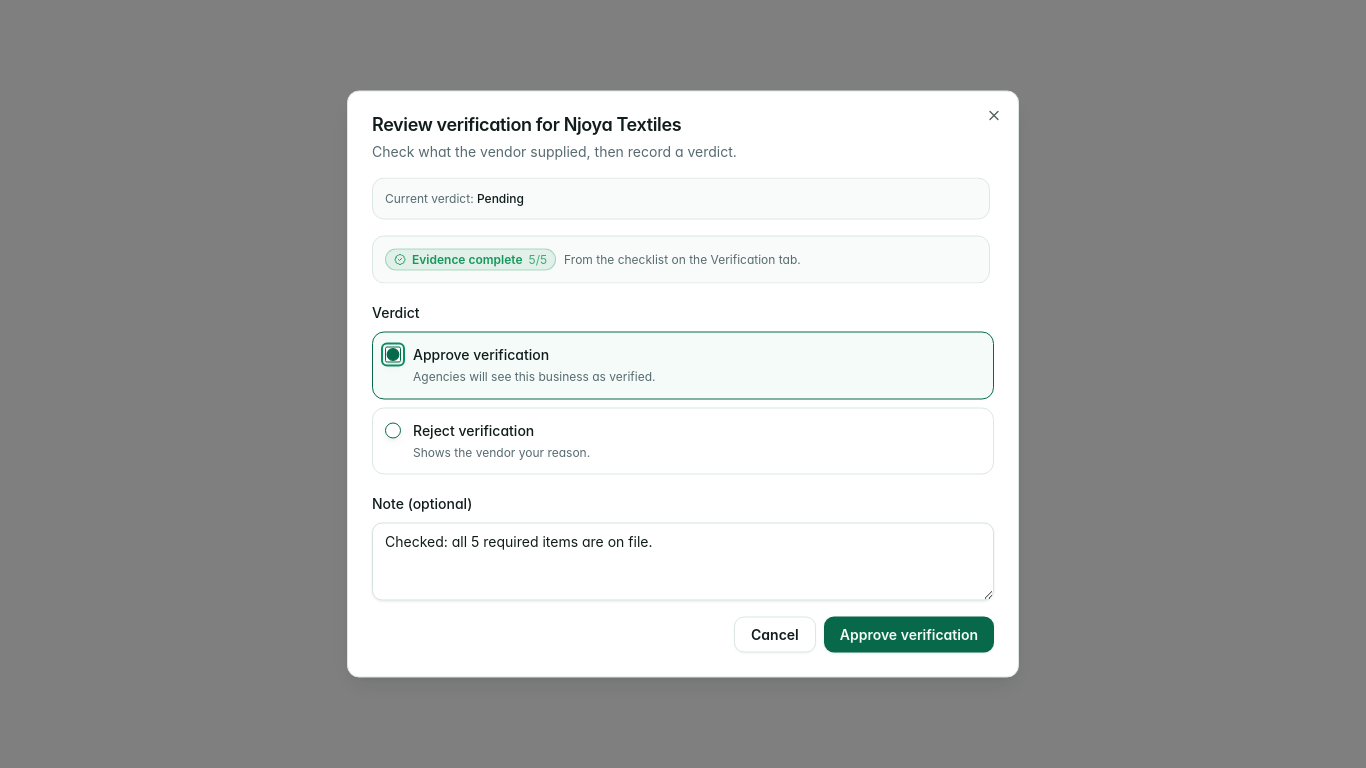
Scenario: the drafted reason › refuses to submit a rejection with no reason
The width and height of the screenshot is (1366, 768).
Click the radio button named "reject verification" next to "Reject verification": point(393, 430) [385, 422, 401, 438]
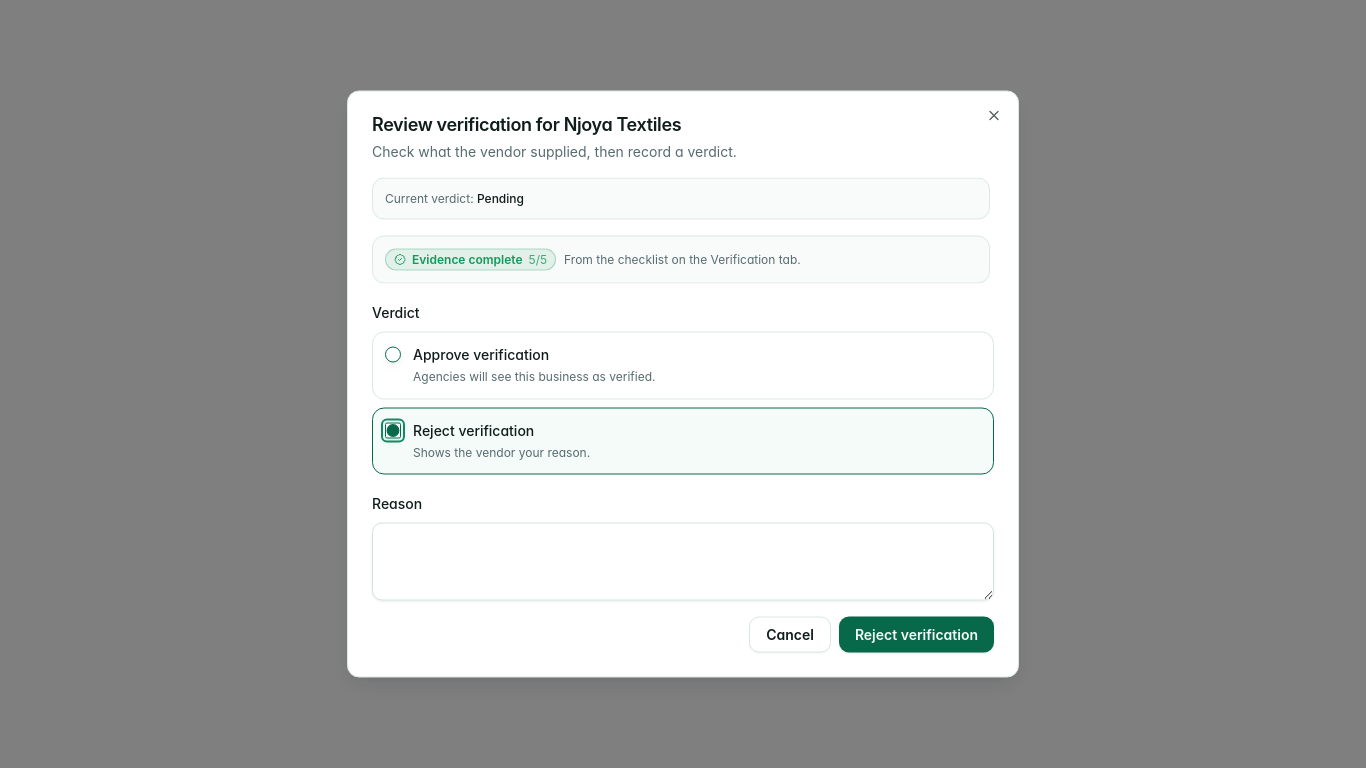
Clear the text box labelled "Reason": point(683, 562) [372, 522, 994, 600]
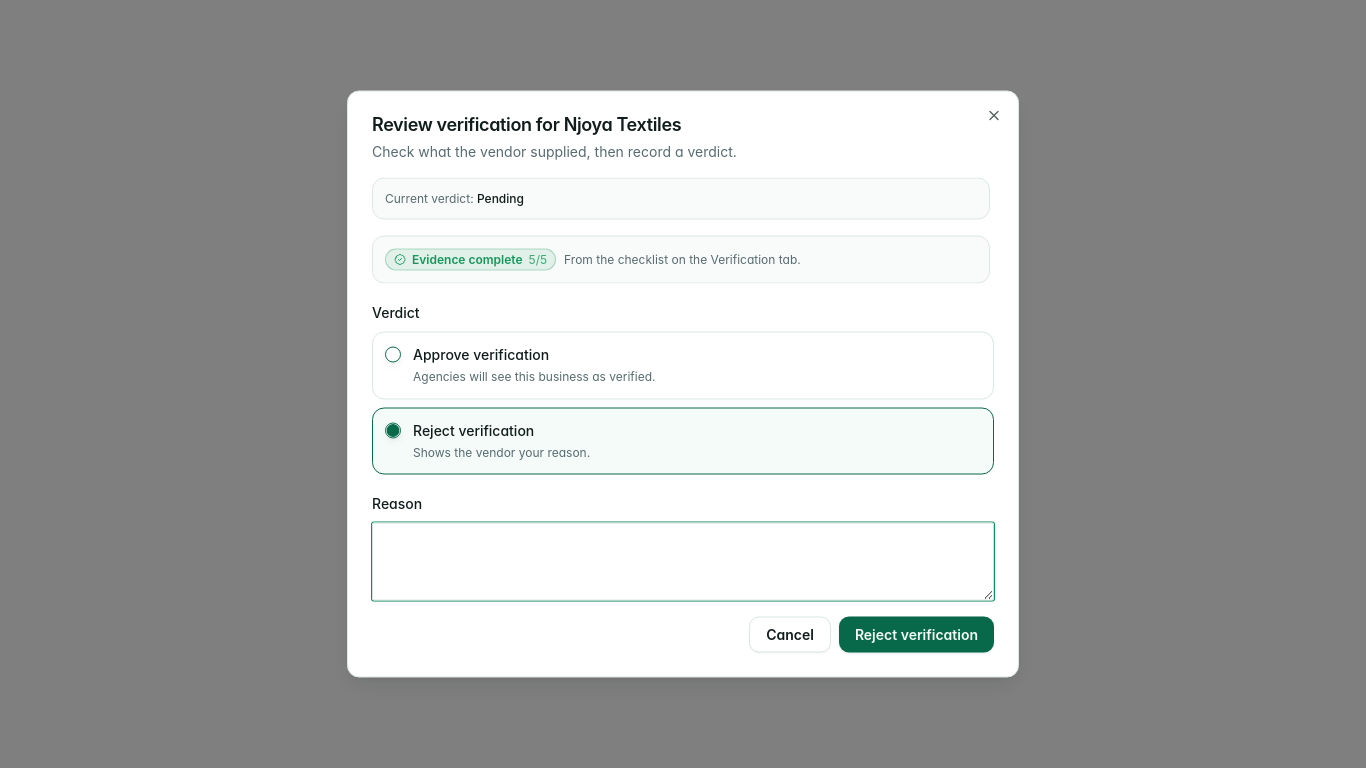
Click the button "Reject verification": point(916, 634) [839, 616, 994, 652]
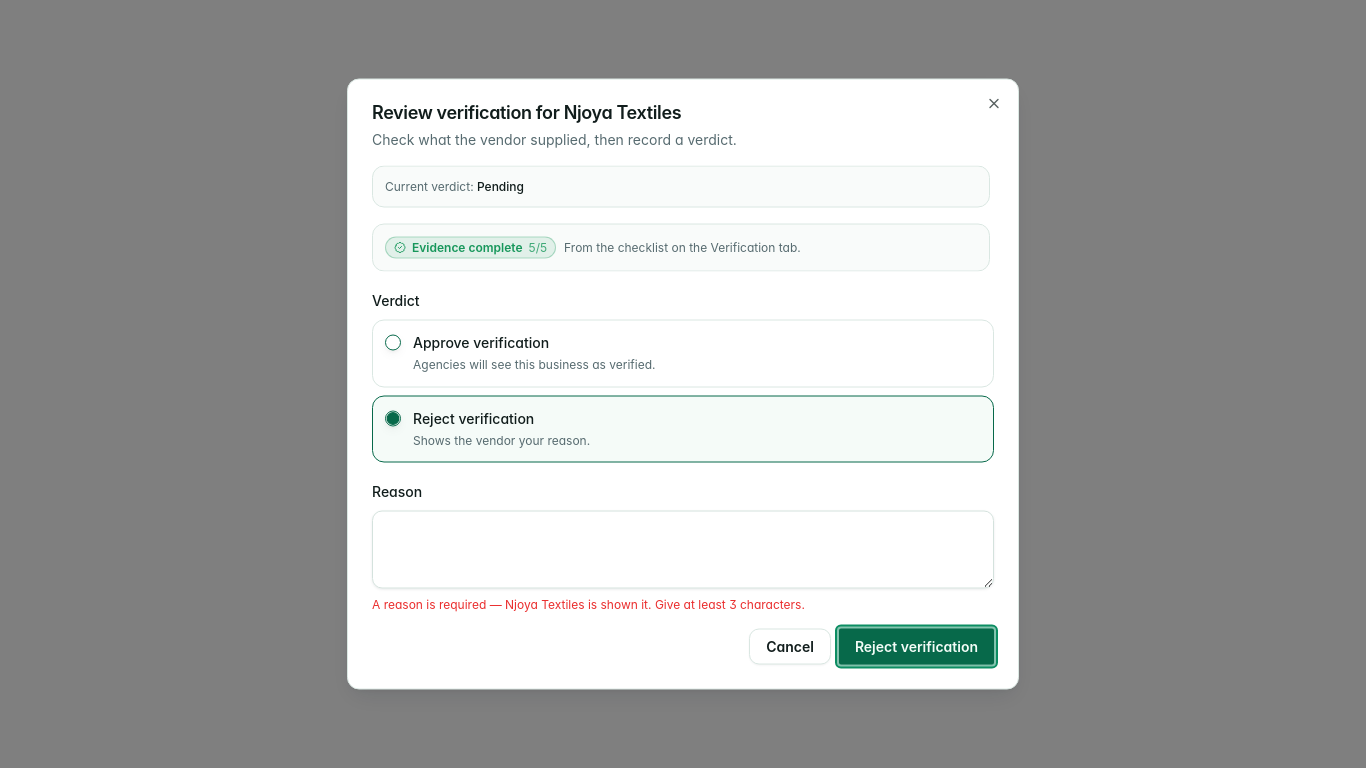
Expected: the text "A reason is required — Njoya Textiles is shown it. Give at least 3 characters." is shown, [372, 596, 805, 612]
